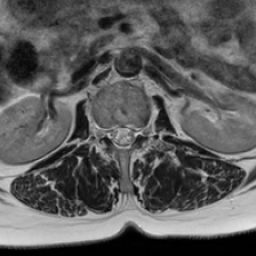CCS_normal: (117, 115, 126, 157)
LFS_normal: (137, 115, 147, 146)
LLS_normal: (126, 115, 137, 152)
RFS_normal: (98, 116, 107, 149)
RLS_normal: (107, 116, 117, 151)
